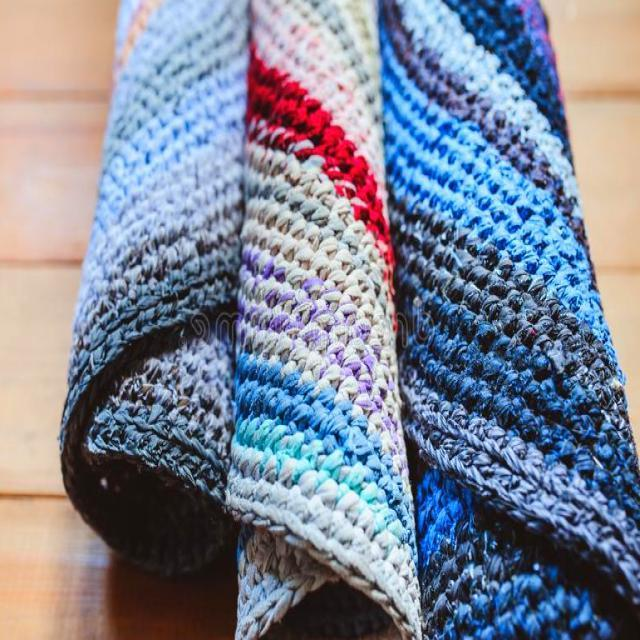clothes: (259, 24, 516, 495)
